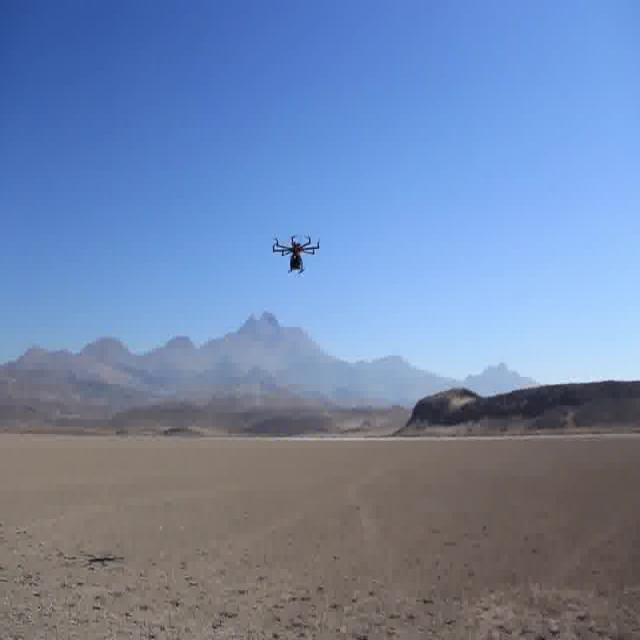drone: (270, 225, 324, 288)
